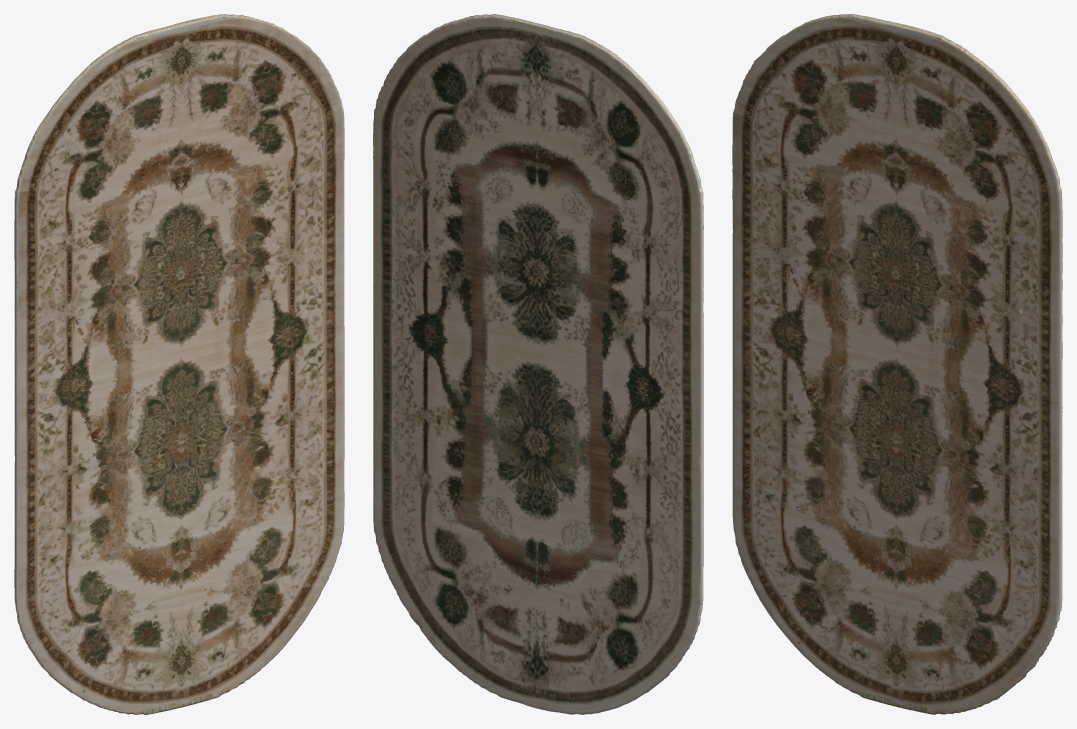
The model's file is Meshy_AI_A_realistic_rug_flat_0224030408_texture.glb.
3 renders of one model, left to right at view 1: azimuth 30°, elevation 25°; view 2: azimuth 150°, elevation 25°; view 3: azimuth 330°, elevation 25°, orthographic.
Bounding box in the file's own units: 1 × 1.99 × 0.0163.
Materials: 1 (1 with a texture image).
